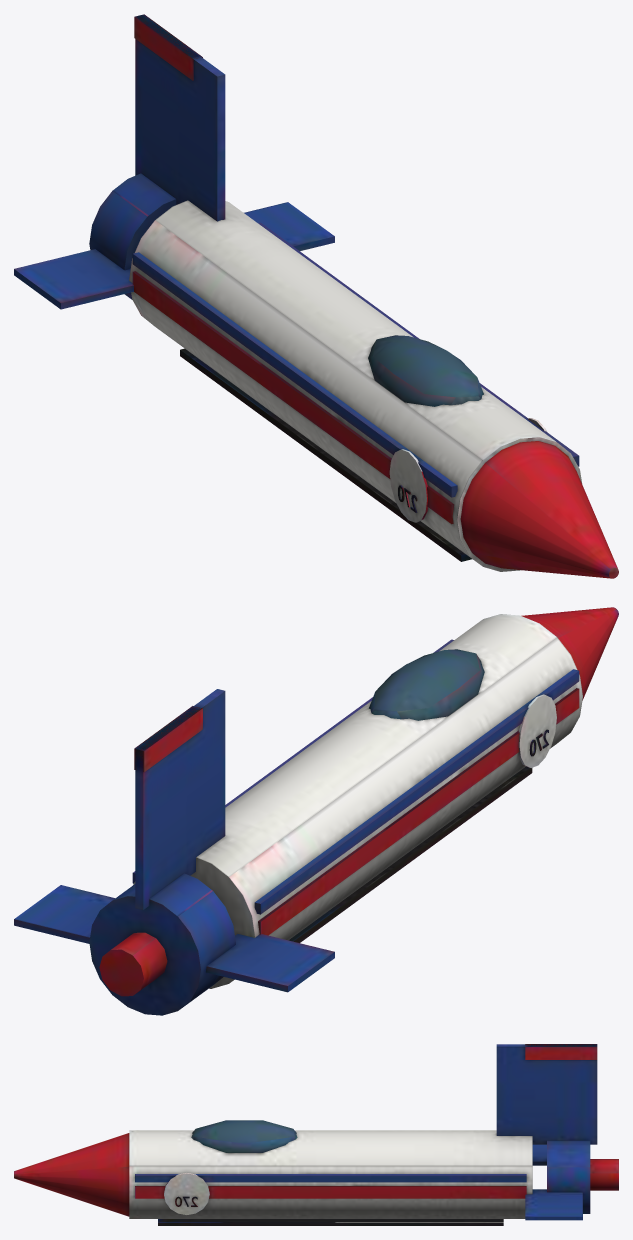
The model's file is bolido_sal.glb.
The picture shows the model from 3 angles, top to bottom: view 1: azimuth 30°, elevation 25°; view 2: azimuth 150°, elevation 25°; view 3: azimuth 270°, elevation 25°; orthographic projection. The views are drawn at different scales.
Parts seen in each view (by area): view 1: bolido_sal; view 2: bolido_sal; view 3: bolido_sal.
Part boxes in pixels (bbox=[...]): bolido_sal: bbox=[14, 14, 618, 578]; bolido_sal: bbox=[14, 607, 618, 1015]; bolido_sal: bbox=[14, 1044, 618, 1225].
Bounding box in the file's own units: 2.7 × 2.6 × 8.4.
Materials: 1 (1 with a texture image).
